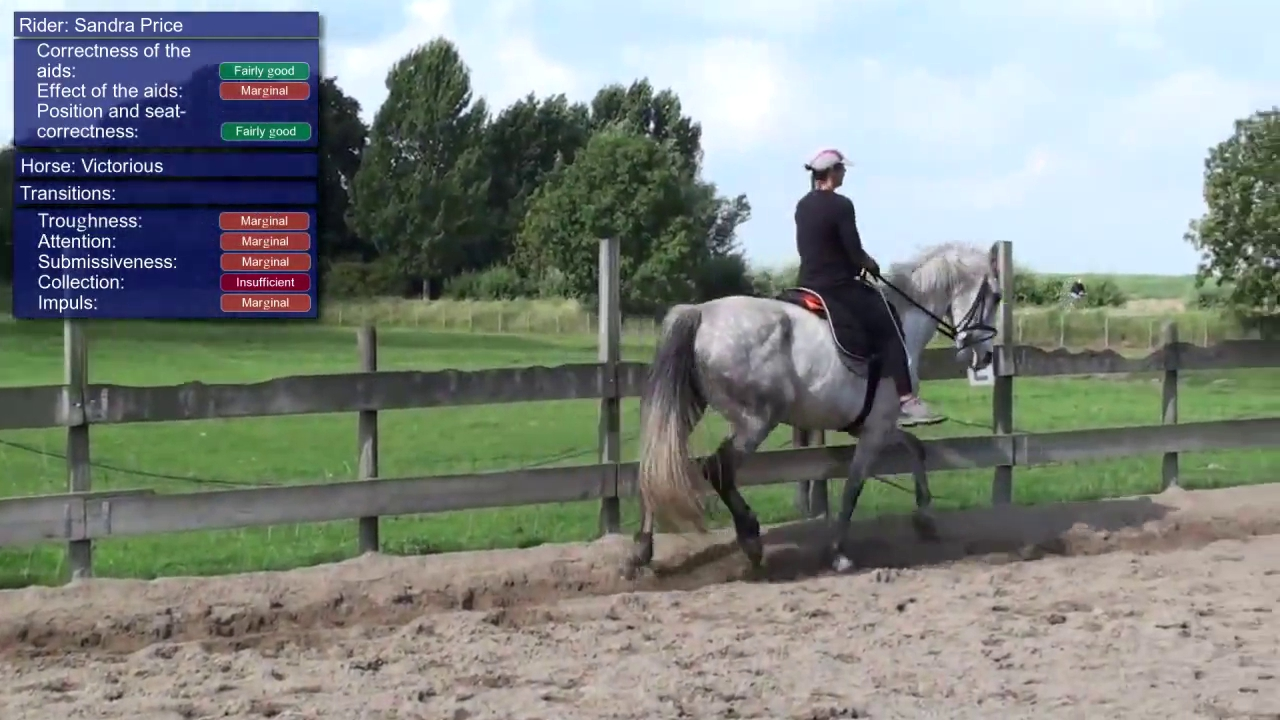person: (795, 149, 949, 429)
